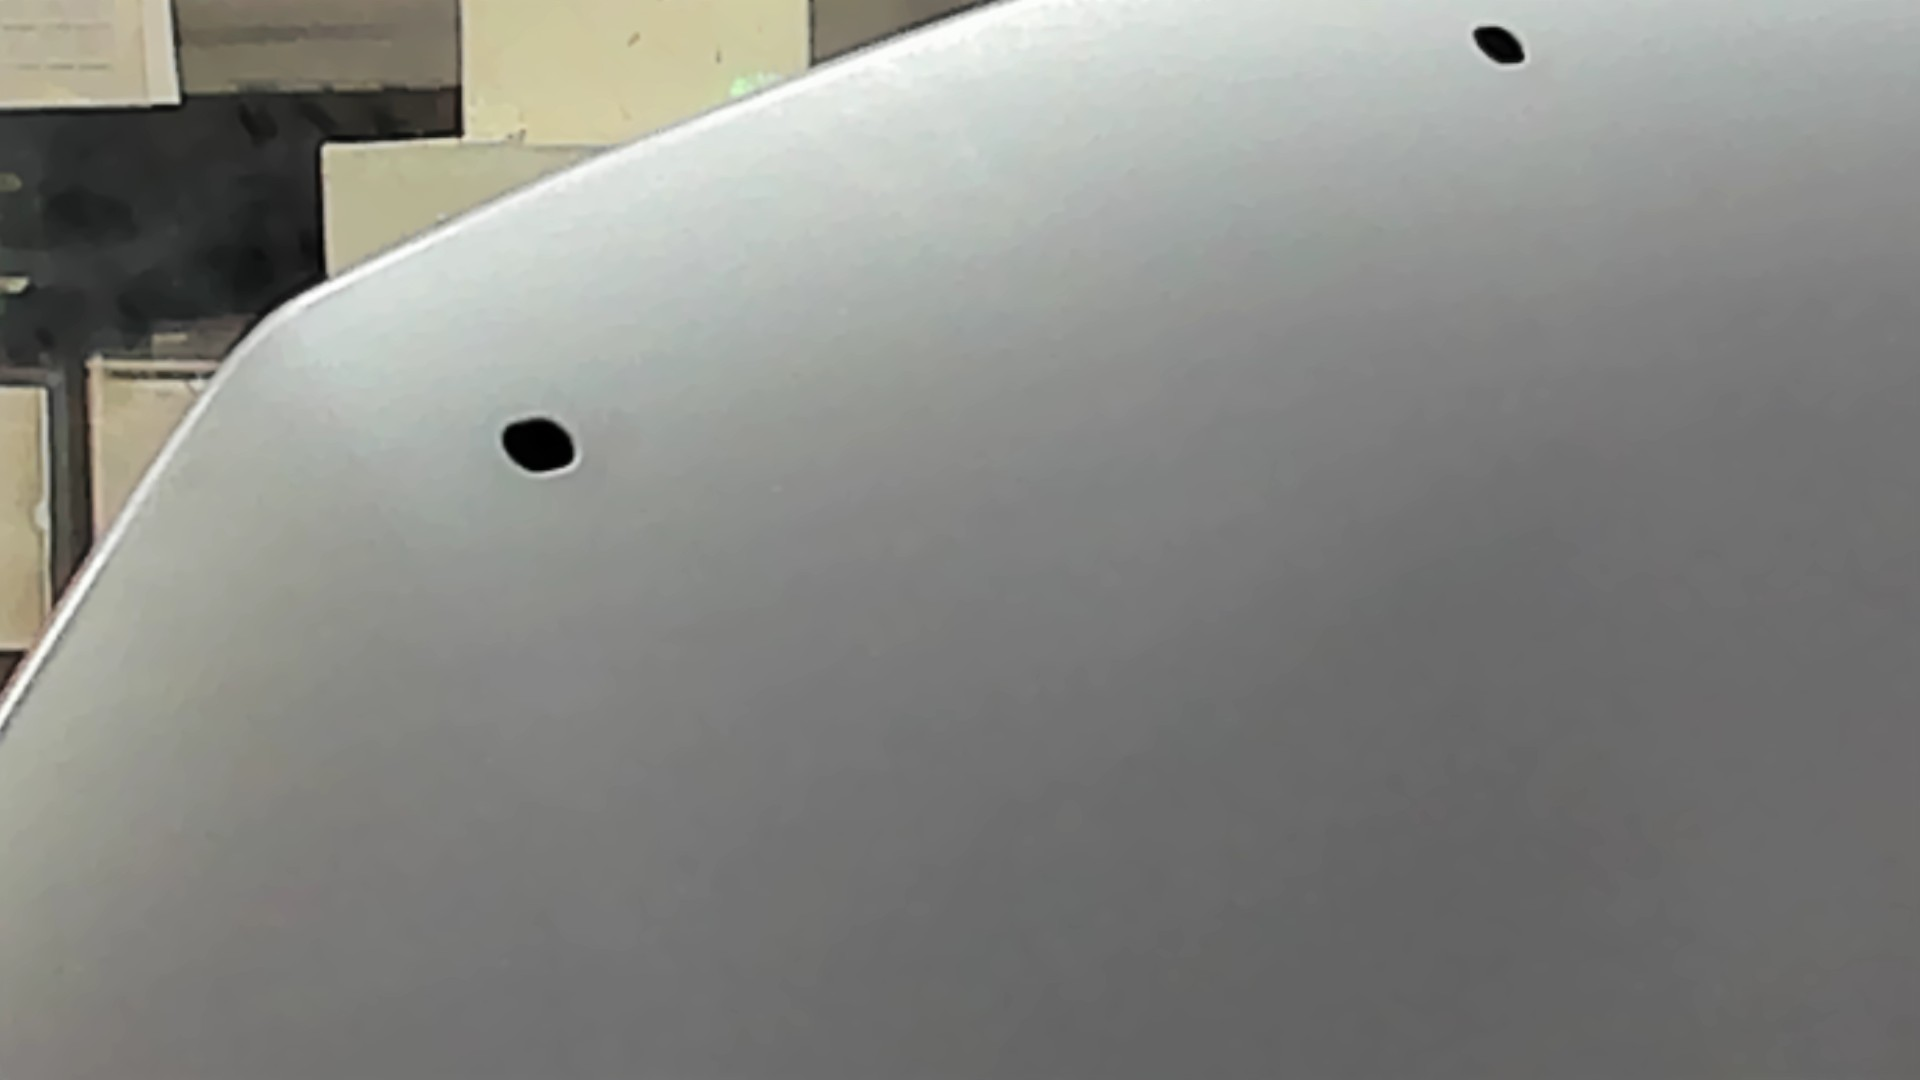chico: (487, 414, 605, 483), (1457, 20, 1542, 83)
